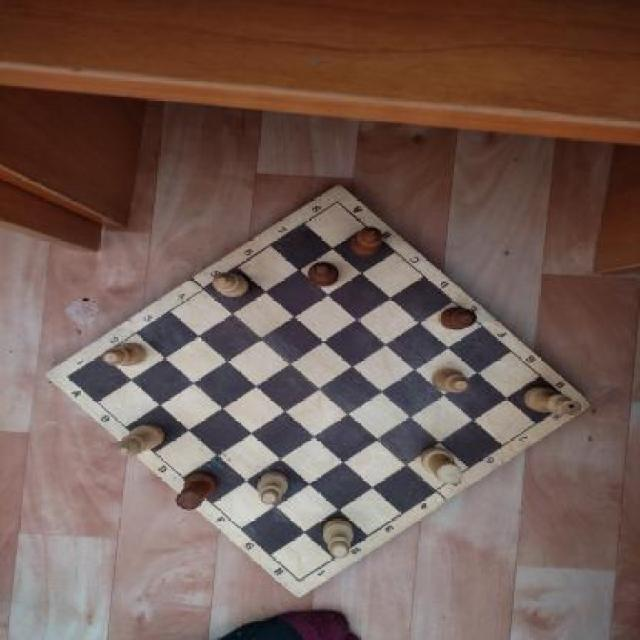chess-table-corners: (546, 383, 588, 419), (316, 188, 358, 218), (48, 362, 84, 396), (278, 564, 317, 592)
